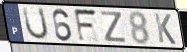6: (51, 7, 73, 43)
8: (128, 10, 152, 47)
F: (72, 8, 99, 44)
K: (153, 12, 178, 46)
U: (22, 6, 50, 42)
Z: (99, 10, 128, 44)
